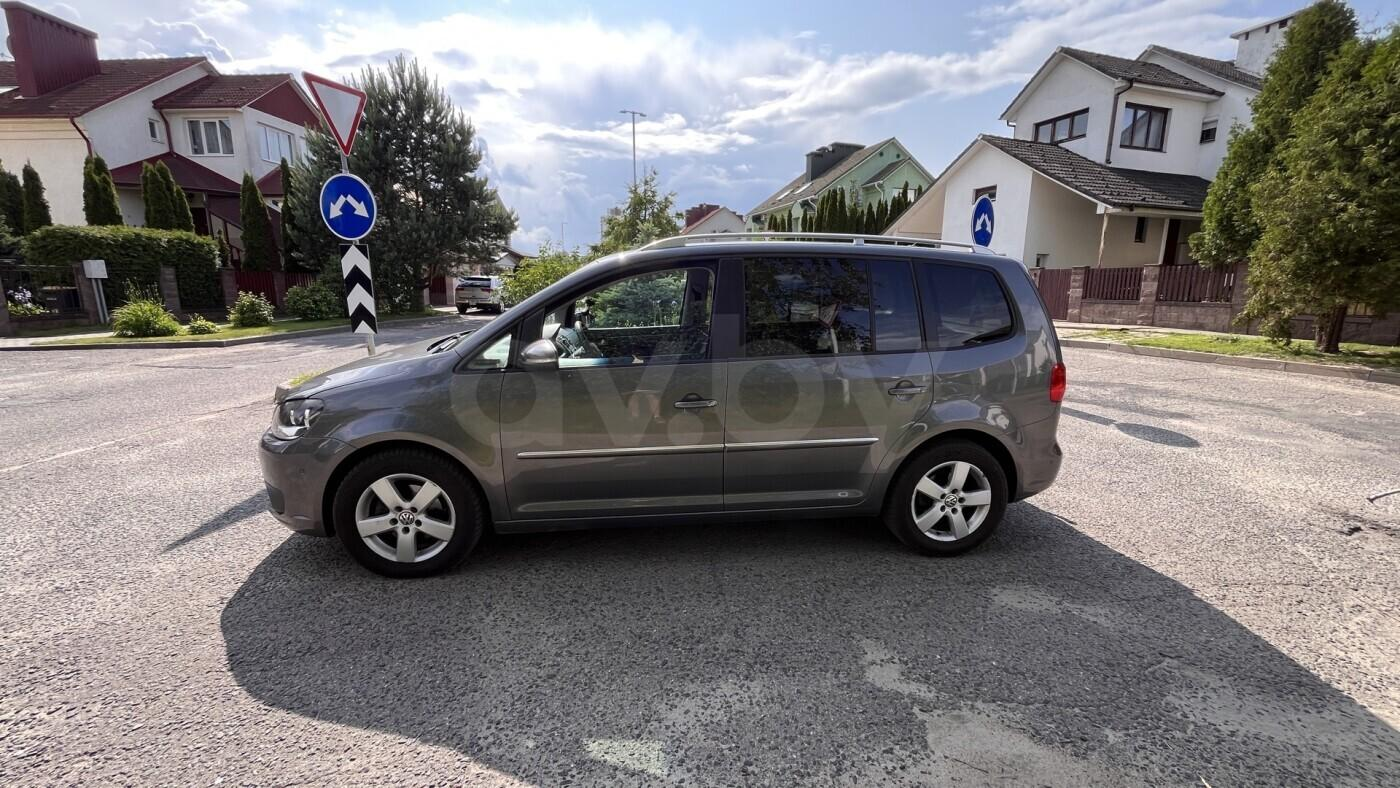Touran_2010-2015: (260, 228, 1068, 564)
